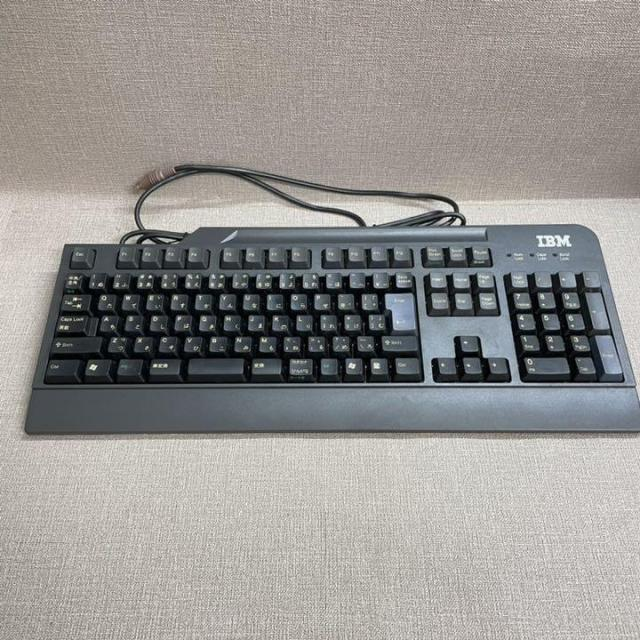keyboard: (24, 240, 640, 432)
